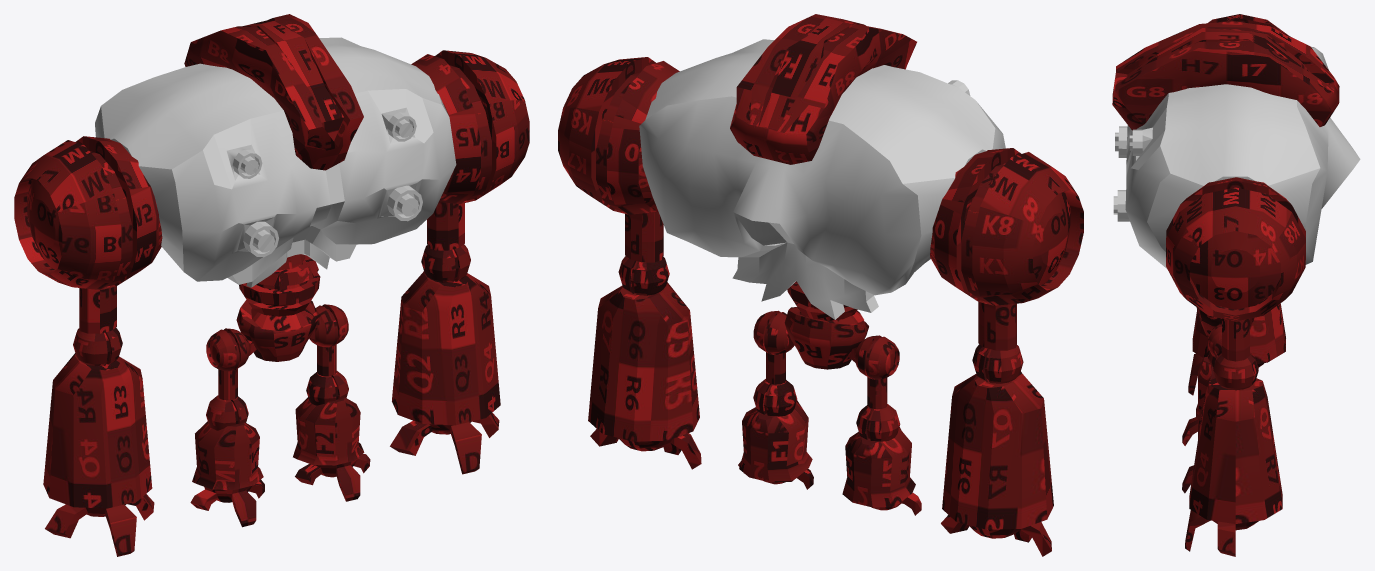
File: rigged_robot.fbx
3 renders of one model, left to right at view 1: azimuth 30°, elevation 25°; view 2: azimuth 150°, elevation 25°; view 3: azimuth 270°, elevation 25°, orthographic. The views are drawn at different scales.
Parts seen in each view (by area): view 1: mainbody, uvrobopleasedontbreak_0004:r_shoulder, uvrobopleasedontbreak_0004:r_upperArm, uvrobopleasedontbreak_0004:l_upperArm, uvrobopleasedontbreak_0004:head, uvrobopleasedontbreak_0004:l_shoulder, uvrobopleasedontbreak_0004:waist, uvrobopleasedontbreak_0004:l_shin, uvrobopleasedontbreak_0004:r_shin, uvrobopleasedontbreak_0004:l_hand1, uvrobopleasedontbreak_0004:r_hand1, uvrobopleasedontbreak_0004:hip (+10 smaller); view 2: mainbody, uvrobopleasedontbreak_0004:r_shoulder, uvrobopleasedontbreak_0004:head, uvrobopleasedontbreak_0004:l_upperArm, uvrobopleasedontbreak_0004:r_upperArm, uvrobopleasedontbreak_0004:l_shoulder, uvrobopleasedontbreak_0004:l_shin, uvrobopleasedontbreak_0004:r_shin, uvrobopleasedontbreak_0004:hip, uvrobopleasedontbreak_0004:l_bicep, uvrobopleasedontbreak_0004:r_bicep, uvrobopleasedontbreak_0004:r_hip (+9 smaller); view 3: mainbody, uvrobopleasedontbreak_0004:l_shoulder, uvrobopleasedontbreak_0004:head, uvrobopleasedontbreak_0004:l_upperArm, uvrobopleasedontbreak_0004:r_upperArm, uvrobopleasedontbreak_0004:l_elbow, uvrobopleasedontbreak_0004:l_hand1, uvrobopleasedontbreak_0004:l_bicep, uvrobopleasedontbreak_0004:r_shin, uvrobopleasedontbreak_0004:r_shoulder, uvrobopleasedontbreak_0004:l_hip, uvrobopleasedontbreak_0004:hip (+1 smaller).
Boxes of the visible parts, <box> form: mainbody: <box>95,37,456,287</box>; uvrobopleasedontbreak_0004:r_shoulder: <box>14,136,162,289</box>; uvrobopleasedontbreak_0004:r_upperArm: <box>43,353,152,508</box>; uvrobopleasedontbreak_0004:l_upperArm: <box>392,271,500,425</box>; uvrobopleasedontbreak_0004:head: <box>184,14,363,170</box>; uvrobopleasedontbreak_0004:l_shoulder: <box>411,50,529,203</box>; uvrobopleasedontbreak_0004:waist: <box>239,254,320,330</box>; uvrobopleasedontbreak_0004:l_shin: <box>293,397,364,465</box>; uvrobopleasedontbreak_0004:r_shin: <box>192,421,263,489</box>; uvrobopleasedontbreak_0004:l_hand1: <box>390,412,499,474</box>; uvrobopleasedontbreak_0004:r_hand1: <box>45,494,154,556</box>; uvrobopleasedontbreak_0004:hip: <box>236,300,318,361</box>; mainbody: <box>639,39,1005,319</box>; uvrobopleasedontbreak_0004:r_shoulder: <box>930,148,1083,305</box>; uvrobopleasedontbreak_0004:head: <box>730,14,916,164</box>; uvrobopleasedontbreak_0004:l_upperArm: <box>588,282,699,441</box>; uvrobopleasedontbreak_0004:r_upperArm: <box>942,371,1053,529</box>; uvrobopleasedontbreak_0004:l_shoulder: <box>558,57,679,214</box>; uvrobopleasedontbreak_0004:l_shin: <box>739,400,812,482</box>; uvrobopleasedontbreak_0004:r_shin: <box>842,427,915,507</box>; uvrobopleasedontbreak_0004:hip: <box>784,307,868,369</box>; uvrobopleasedontbreak_0004:l_bicep: <box>625,212,663,262</box>; uvrobopleasedontbreak_0004:r_bicep: <box>978,302,1016,350</box>; uvrobopleasedontbreak_0004:r_hip: <box>854,335,899,379</box>; mainbody: <box>1113,46,1360,268</box>; uvrobopleasedontbreak_0004:l_shoulder: <box>1166,177,1305,321</box>; uvrobopleasedontbreak_0004:head: <box>1112,21,1339,130</box>; uvrobopleasedontbreak_0004:l_upperArm: <box>1189,378,1282,523</box>; uvrobopleasedontbreak_0004:r_upperArm: <box>1192,303,1285,363</box>; uvrobopleasedontbreak_0004:l_elbow: <box>1213,352,1258,390</box>; uvrobopleasedontbreak_0004:l_hand1: <box>1185,510,1259,556</box>; uvrobopleasedontbreak_0004:l_bicep: <box>1222,318,1249,361</box>; uvrobopleasedontbreak_0004:r_shin: <box>1196,357,1215,419</box>; uvrobopleasedontbreak_0004:r_shoulder: <box>1207,14,1288,35</box>; uvrobopleasedontbreak_0004:l_hip: <box>1208,323,1221,358</box>; uvrobopleasedontbreak_0004:hip: <box>1196,307,1254,337</box>.
Size of the model in its own units: 4.29 by 4.13 by 2.13.
